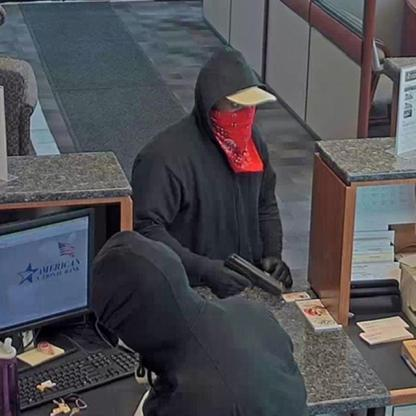pistols: (214, 254, 286, 302)
